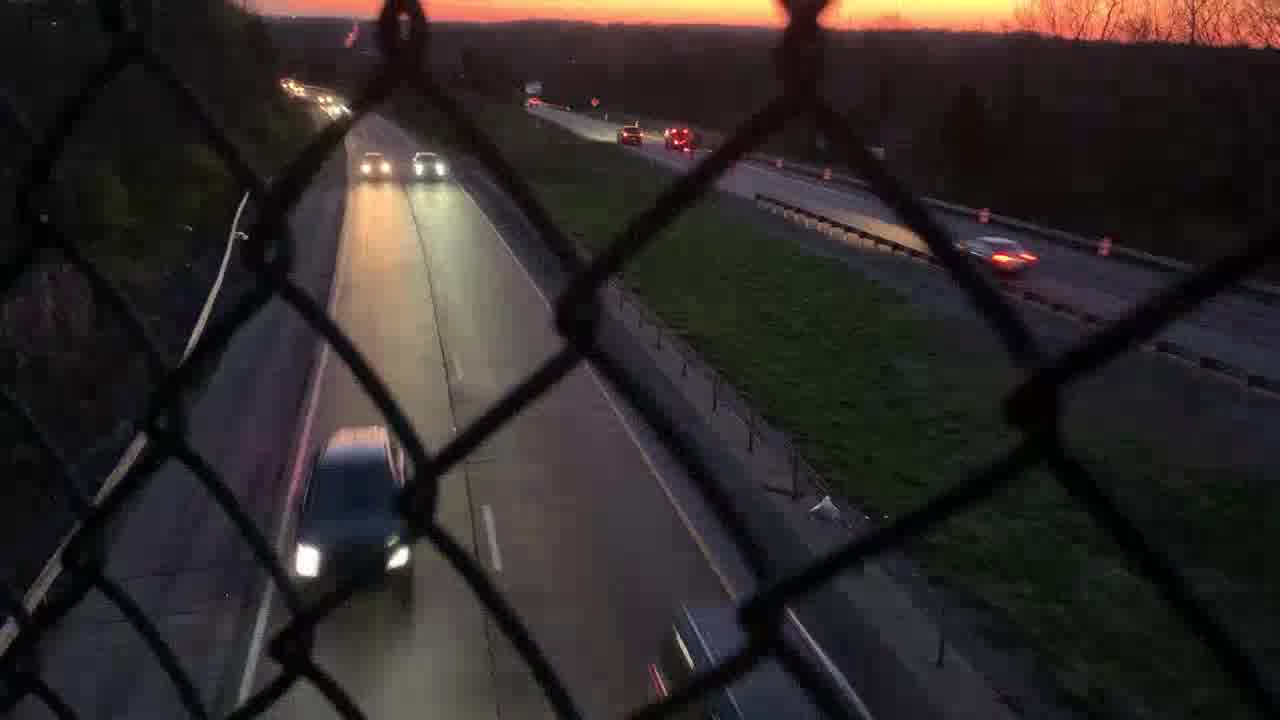heavyTruck: (663, 126, 702, 155)
largeCar: (288, 429, 415, 597), (406, 152, 453, 187), (354, 151, 395, 187), (613, 123, 649, 148)
smallCar: (948, 229, 1040, 286)
